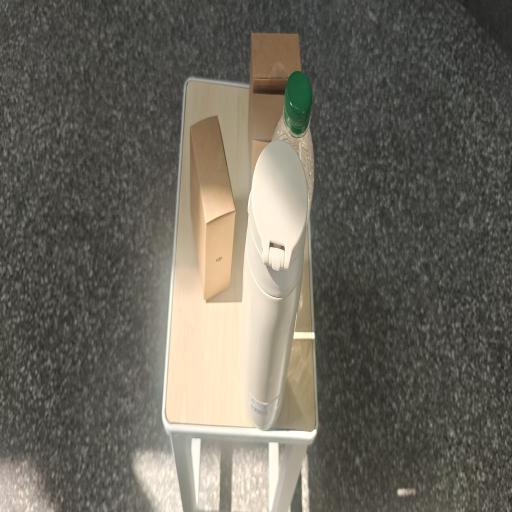bottle: (239, 140, 308, 430), (272, 71, 314, 223)
box: (189, 116, 236, 300), (248, 89, 284, 184), (250, 32, 302, 94)
